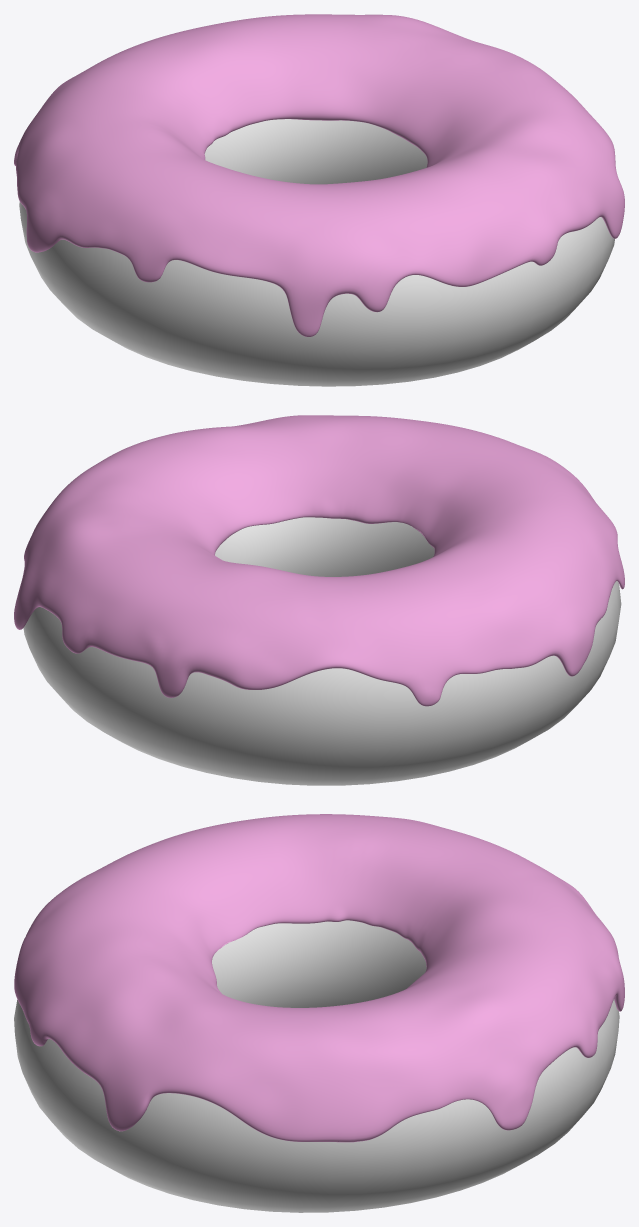
Rendered from hey.glb.
3 views of the same model, one above another, from view 1: azimuth 30°, elevation 25°; view 2: azimuth 150°, elevation 25°; view 3: azimuth 270°, elevation 25° (orthographic). The views are drawn at different scales.
Parts seen in each view (by area): view 1: Icing, Donads; view 2: Icing, Donads; view 3: Icing, Donads.
Boxes of the visible parts, <box> form: Icing: <box>14,14,624,336</box>; Donads: <box>19,119,614,386</box>; Icing: <box>14,415,624,706</box>; Donads: <box>23,517,621,785</box>; Icing: <box>14,814,624,1142</box>; Donads: <box>14,920,619,1212</box>.
Size of the model in its own units: 0.1558 by 0.0545 by 0.1493.
